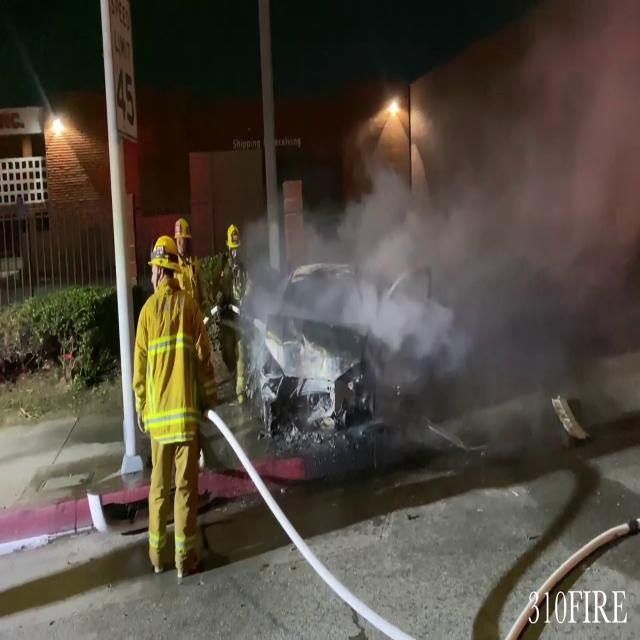Smoke: (252, 3, 640, 386)
